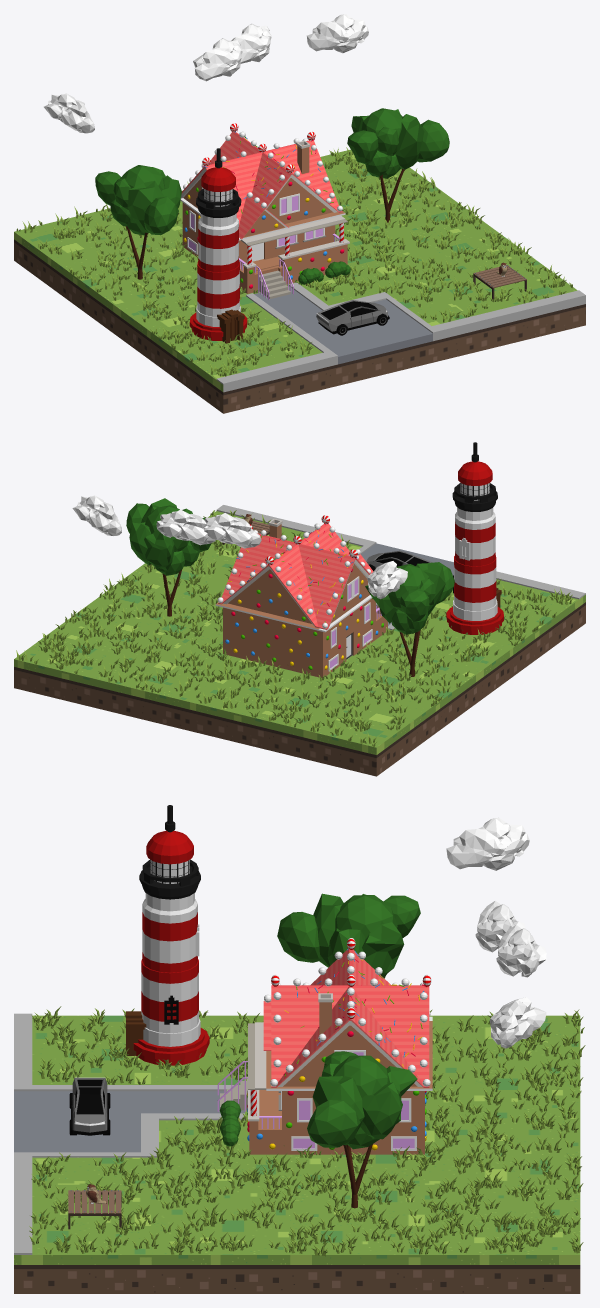
3 renders of one model, top to bottom at view 1: azimuth 30°, elevation 25°; view 2: azimuth 150°, elevation 25°; view 3: azimuth 270°, elevation 25°, orthographic. The views are drawn at different scales.
Parts seen in each view (by area): view 1: Cube.006, Circle.012_Grass_0.192, Cube.1203, OBJRANDOM_LIGHTHOUSE, Cube.007, tree, tree.001, VEHICLES_CYBERTRUCK, Cube.009; view 2: Cube.006, Cube.1203, Circle.012_Grass_0.192, OBJRANDOM_LIGHTHOUSE, Cube.007, tree.001, tree, VEHICLES_CYBERTRUCK; view 3: Cube.006, Circle.012_Grass_0.192, Cube.1203, OBJRANDOM_LIGHTHOUSE, tree, Cube.007, tree.001, VEHICLES_CYBERTRUCK, Cube.009.
Boxes of the visible parts, <box> form: Cube.006: <box>14,149,585,413</box>; Circle.012_Grass_0.192: <box>16,147,573,376</box>; Cube.1203: <box>180,123,349,300</box>; OBJRANDOM_LIGHTHOUSE: <box>189,148,247,343</box>; Cube.007: <box>44,14,368,133</box>; tree: <box>347,108,449,222</box>; tree.001: <box>95,165,181,279</box>; VEHICLES_CYBERTRUCK: <box>316,300,389,335</box>; Cube.009: <box>473,265,526,299</box>; Cube.006: <box>14,505,585,776</box>; Cube.1203: <box>215,515,387,678</box>; Circle.012_Grass_0.192: <box>16,510,572,746</box>; OBJRANDOM_LIGHTHOUSE: <box>446,442,503,634</box>; Cube.007: <box>72,495,407,599</box>; tree.001: <box>365,562,454,676</box>; tree: <box>126,498,211,616</box>; VEHICLES_CYBERTRUCK: <box>366,550,432,571</box>; Cube.006: <box>14,1013,580,1293</box>; Circle.012_Grass_0.192: <box>29,1006,585,1256</box>; Cube.1203: <box>217,938,432,1154</box>; OBJRANDOM_LIGHTHOUSE: <box>126,805,209,1065</box>; tree: <box>307,1051,417,1208</box>; Cube.007: <box>446,817,546,1048</box>; tree.001: <box>277,893,420,978</box>; VEHICLES_CYBERTRUCK: <box>69,1077,110,1135</box>; Cube.009: <box>68,1190,121,1229</box>.
Size of the model in its own units: 4071 by 2287 by 4040.
44 materials, 4 textured.
